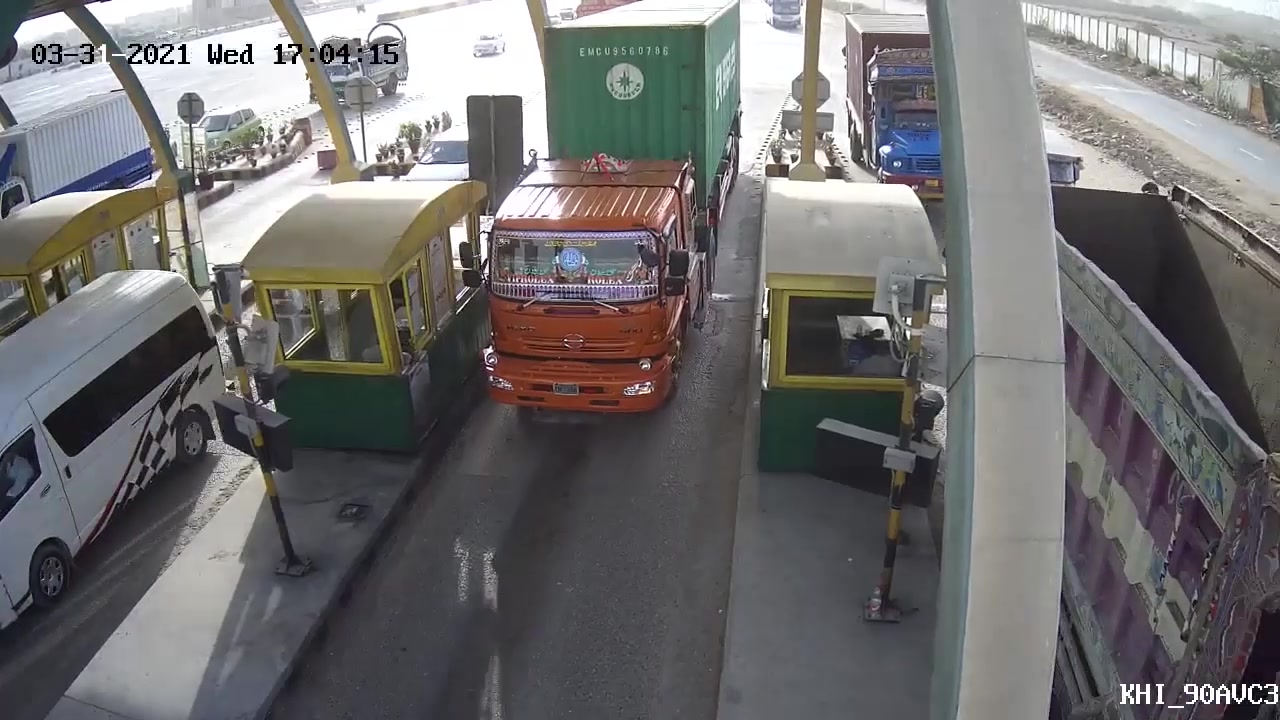F6: (460, 5, 735, 422)
